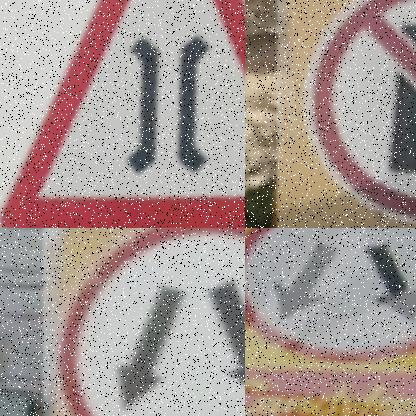No Parking: (276, 0, 416, 228)
Road Divides: (49, 228, 245, 416), (245, 228, 416, 416)
